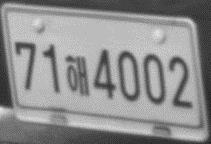0: (117, 50, 140, 101), (143, 54, 166, 104)
1: (38, 43, 65, 93)
2: (168, 56, 194, 109)
4: (91, 49, 117, 100)
7: (14, 41, 37, 90)
해: (64, 54, 91, 97)
